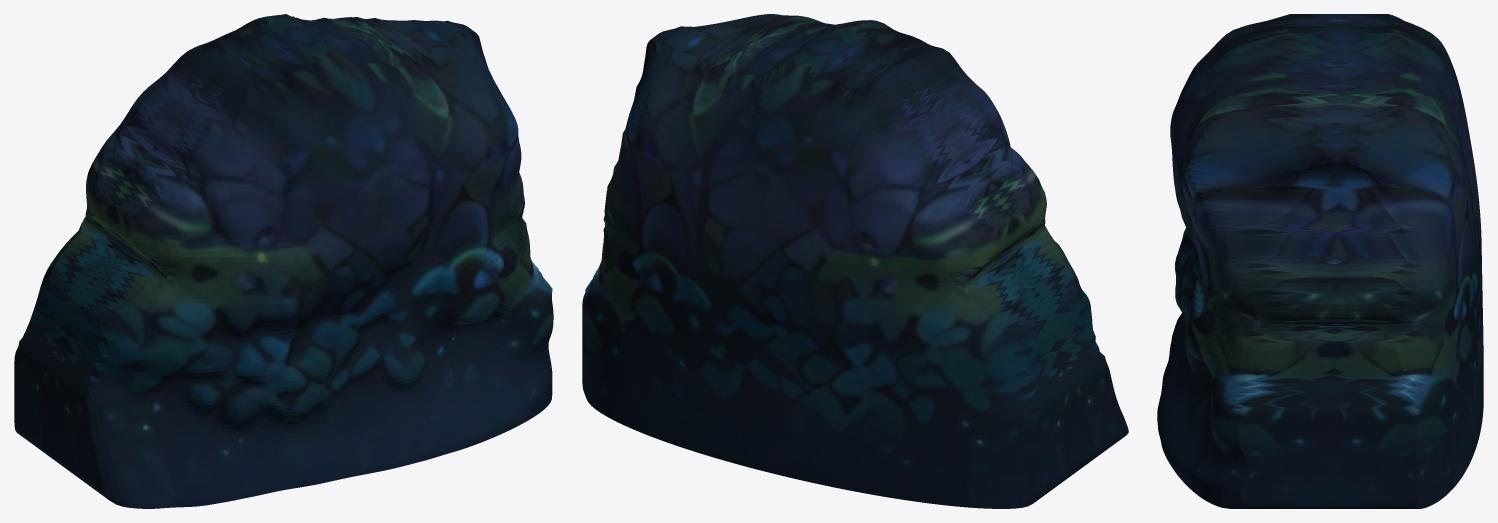
Rendered from platform_2.glb.
The picture shows the model from 3 angles, left to right: view 1: azimuth 30°, elevation 25°; view 2: azimuth 150°, elevation 25°; view 3: azimuth 270°, elevation 25°; orthographic projection. The views are drawn at different scales.
Parts seen in each view (by area): view 1: geometry_0; view 2: geometry_0; view 3: geometry_0.
Boxes of the visible parts, left/top/right/bottom form: geometry_0: left=14, top=14, right=553, bottom=508; geometry_0: left=582, top=14, right=1128, bottom=508; geometry_0: left=1157, top=14, right=1483, bottom=508.
Bounding box in the file's own units: 5.25 × 4.1 × 3.23.
1 material, 1 textured.
